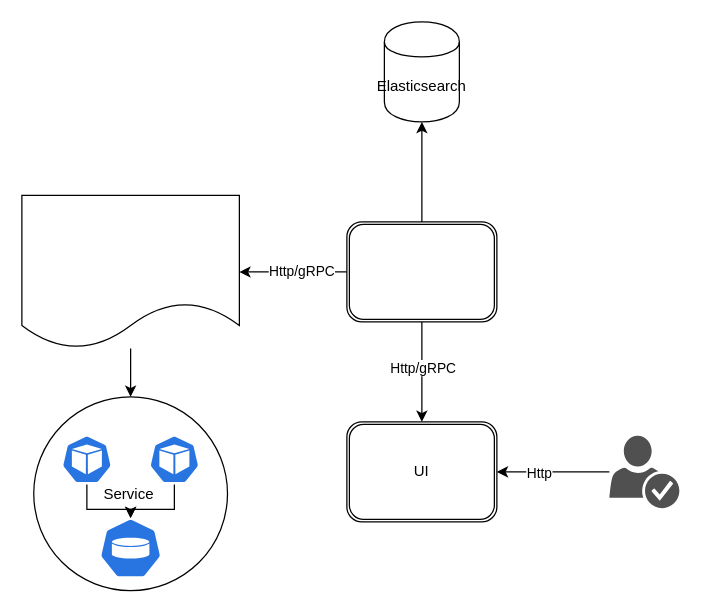
Image size: 701x613. Some labels were removed from this diagram. Each missing label, with the centre of its shape:
"MS Instance" goes at point (130, 271).
"OAP" goes at point (421, 271).
